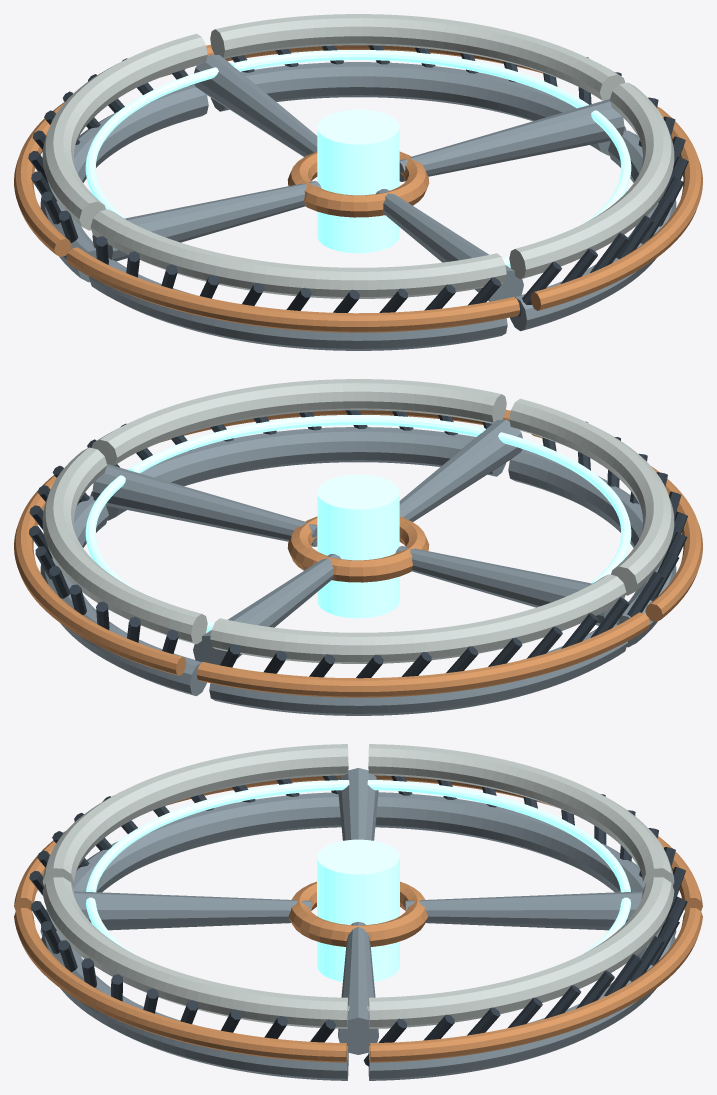
File: Vera.glb
3 views of the same model, one above another, from view 1: azimuth 30°, elevation 25°; view 2: azimuth 150°, elevation 25°; view 3: azimuth 270°, elevation 25° (orthographic).
Parts seen in each view (by area): view 1: ArcSection2, ArcSection0, ArcSection3, ArcSection1, EnergyCore; view 2: ArcSection1, ArcSection3, ArcSection0, ArcSection2, EnergyCore; view 3: ArcSection3, ArcSection1, ArcSection0, ArcSection2, EnergyCore.
Boxes of the visible parts, x1,y1,x2,y2 form: ArcSection2: (66, 181, 519, 350); ArcSection0: (206, 14, 626, 181); ArcSection3: (376, 82, 702, 331); ArcSection1: (14, 33, 317, 282); EnergyCore: (287, 109, 429, 253); ArcSection1: (193, 554, 650, 715); ArcSection3: (87, 379, 522, 521); ArcSection0: (14, 447, 317, 696); ArcSection2: (395, 398, 702, 647); EnergyCore: (287, 474, 429, 618); ArcSection3: (14, 877, 349, 1080); ArcSection1: (367, 744, 702, 935); ArcSection0: (338, 877, 702, 1080); ArcSection2: (14, 744, 378, 935); EnergyCore: (288, 839, 428, 981).
Bounding box in the file's own units: 7 × 1.22 × 7.
